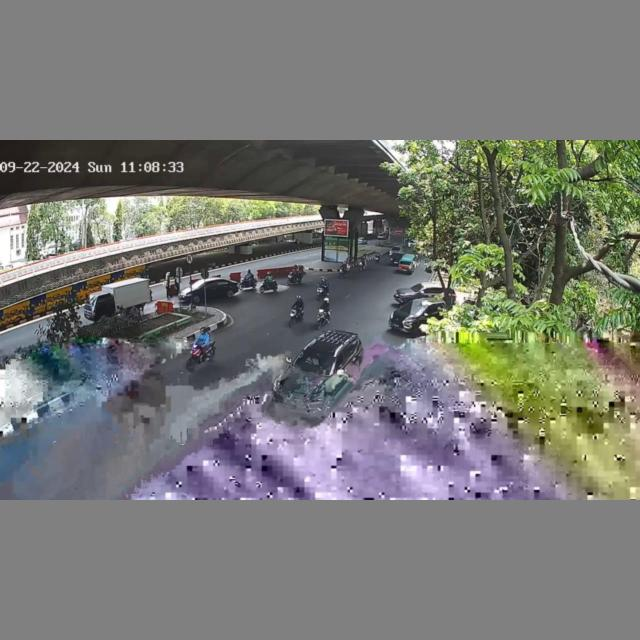windshield: (294, 351, 335, 370)
